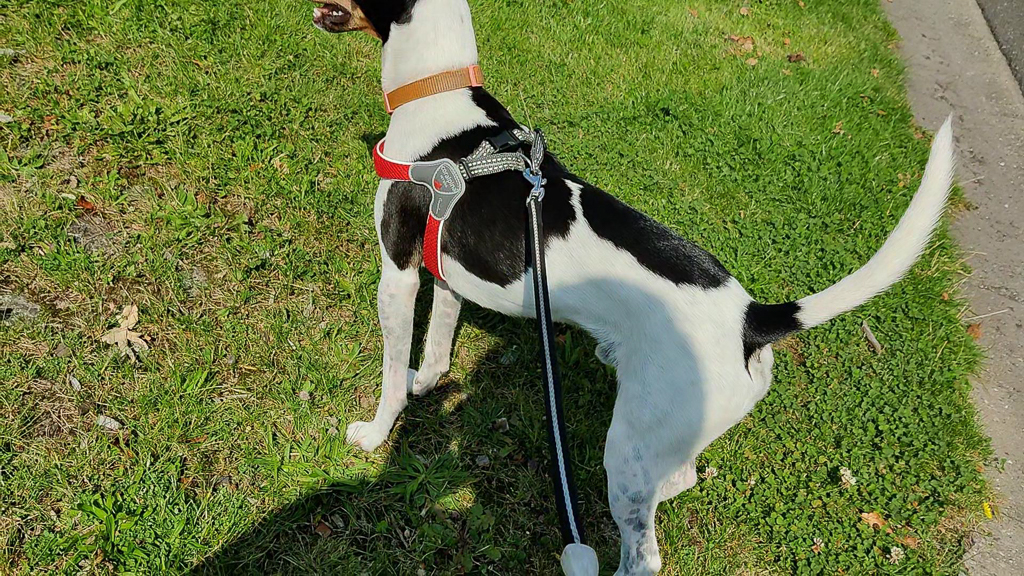Dog: (302, 0, 961, 576)
